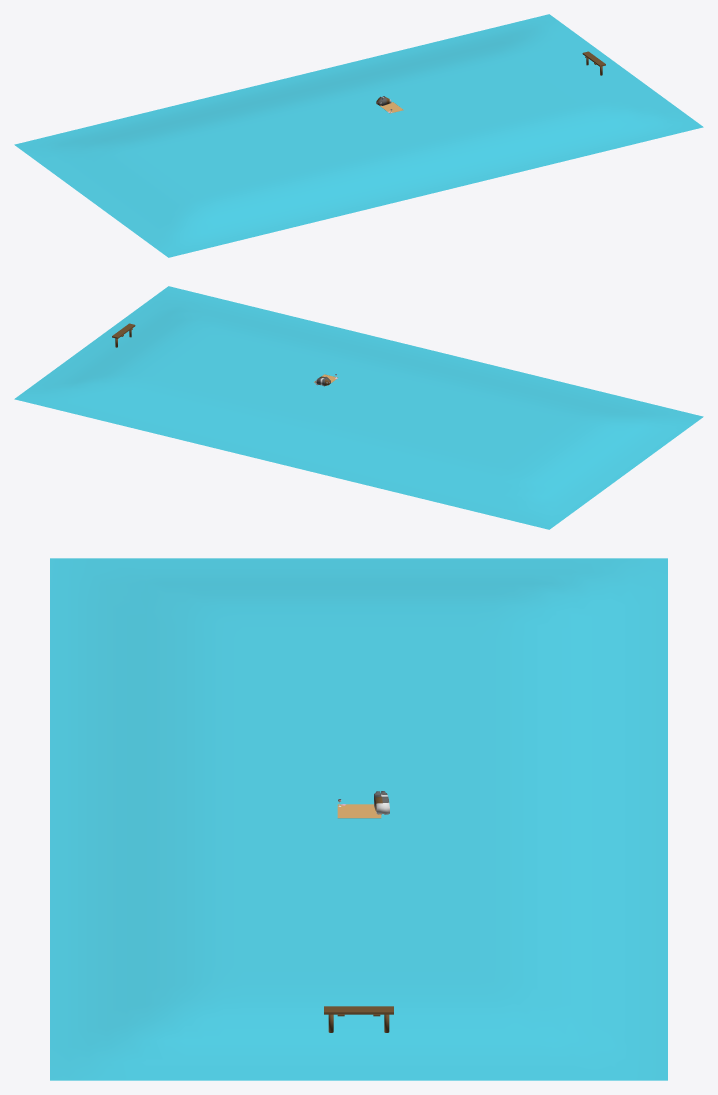
Rendered from lake_chair.glb.
The picture shows the model from 3 angles, top to bottom: view 1: azimuth 30°, elevation 25°; view 2: azimuth 150°, elevation 25°; view 3: azimuth 270°, elevation 25°; orthographic projection. The views are drawn at different scales.
Visible parts, largest first — view 1: Water_Lake; view 2: Water_Lake; view 3: Water_Lake, Deck_Lake.
Boxes of the visible parts, x1=… form: Water_Lake: x1=14, y1=14, x2=703, y2=257; Water_Lake: x1=14, y1=286, x2=703, y2=529; Water_Lake: x1=50, y1=558, x2=667, y2=1080; Deck_Lake: x1=324, y1=1006, x2=393, y2=1032.
Size of the model in its own units: 36 by 1.78 by 18.
